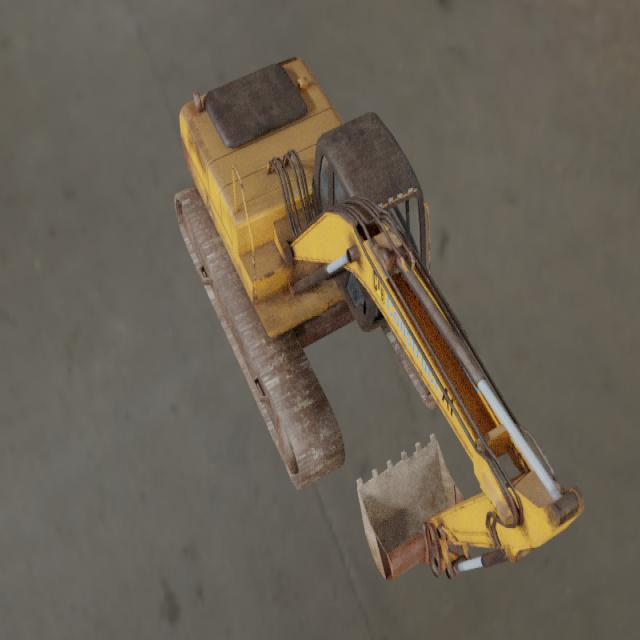excavator: (174, 56, 585, 581)
